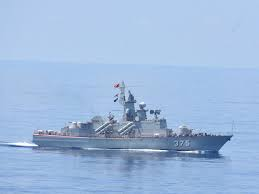tau_muctieu: (22, 82, 233, 154)
